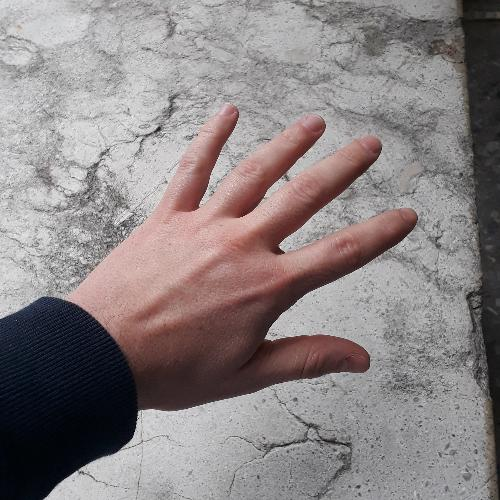paper: (62, 98, 426, 416)
